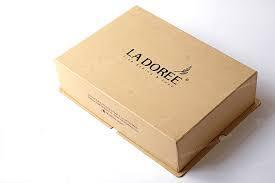box: (55, 4, 263, 181)
